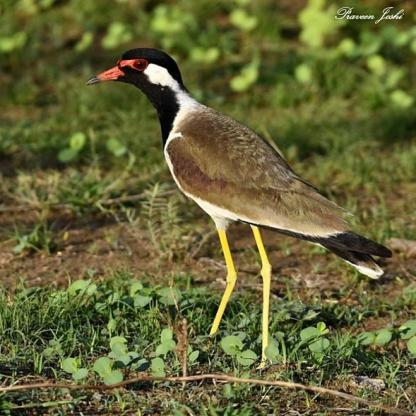Burung: (86, 48, 391, 365)
